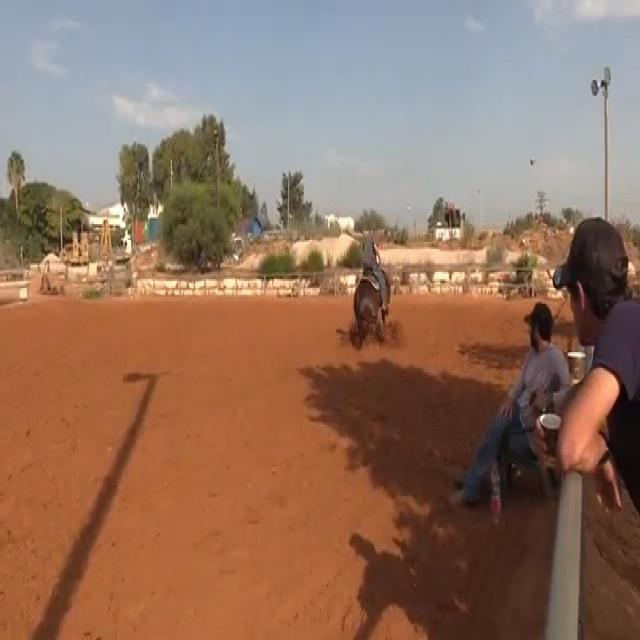horse: (351, 263, 393, 349)
